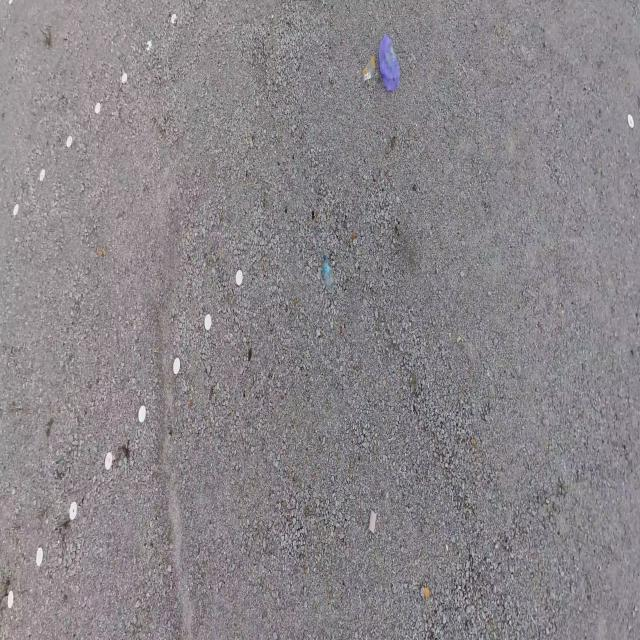rubbish: (378, 34, 400, 90), (323, 254, 336, 292), (361, 53, 376, 81), (369, 509, 377, 534)
